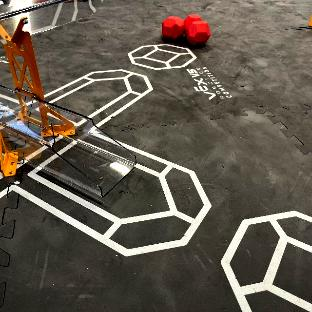V5_RED: (162, 14, 210, 44)
